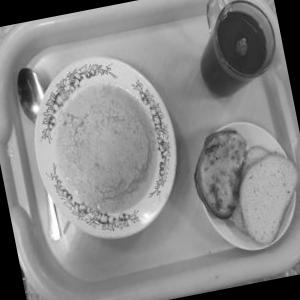bread: (220, 132, 300, 247)
cheese_sandwich: (175, 118, 257, 226)
coffee: (183, 0, 287, 117)
porridge: (28, 65, 182, 235)
